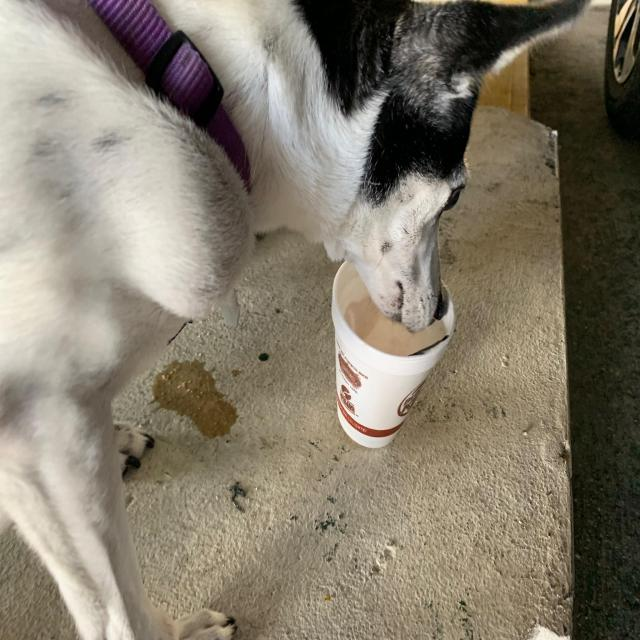litter: (331, 261, 455, 448)
